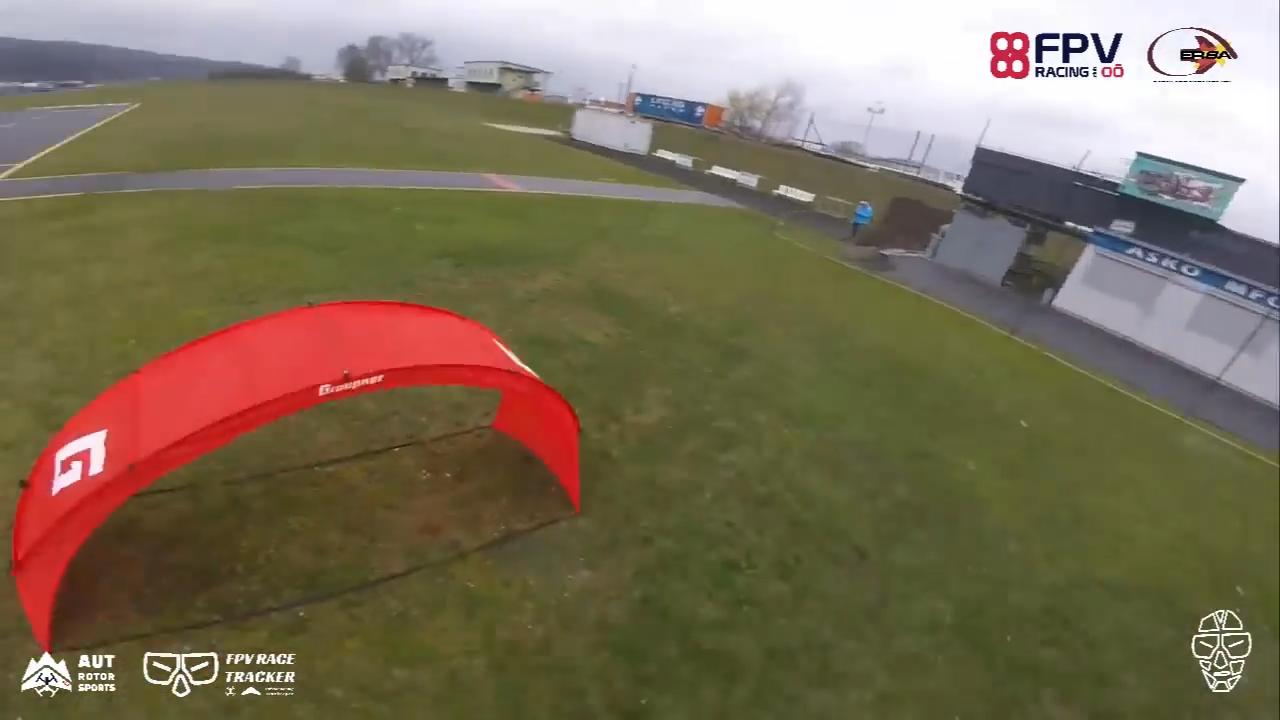gate: (3, 300, 586, 652)
